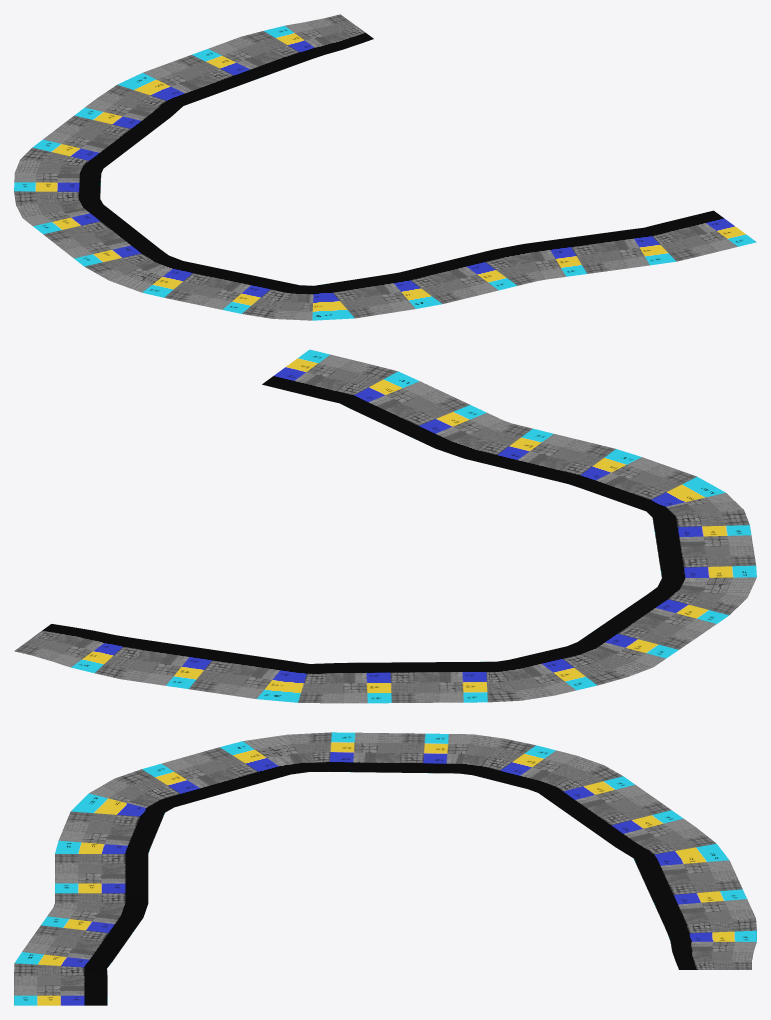
Rendered from downtown_broadway 1.fbx.
3 views of the same model, one above another, from view 1: azimuth 30°, elevation 25°; view 2: azimuth 150°, elevation 25°; view 3: azimuth 270°, elevation 25° (orthographic). The views are drawn at different scales.
Visible parts, largest first — view 1: downtown_broadway_010; view 2: downtown_broadway_010; view 3: downtown_broadway_010.
Part boxes in pixels (box(x1,y1,x2,y2)): downtown_broadway_010: box(14, 14, 756, 320); downtown_broadway_010: box(14, 349, 756, 703); downtown_broadway_010: box(14, 732, 756, 1005).
Size of the model in its own units: 4558 by 31.5 by 5163.
